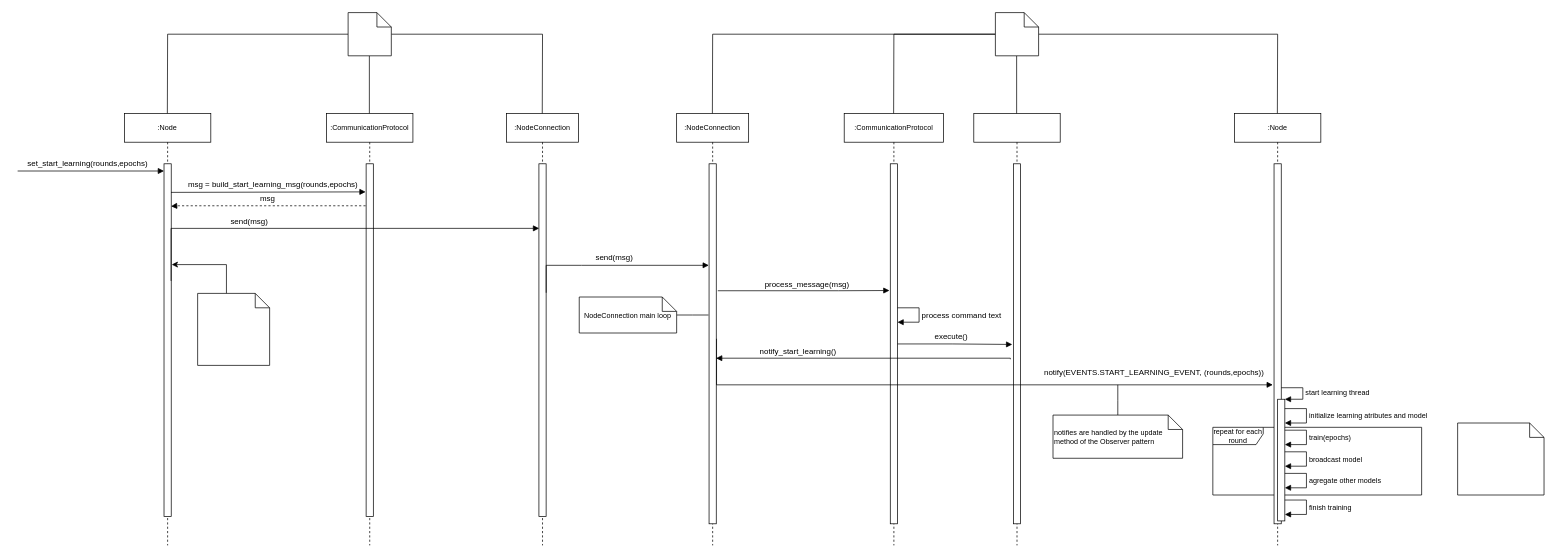
Image size: 1557x558. Some labels were removed from this diagram. Here are the shapes that lost their labels. From the top down, the box of each, then its label:
(347, 12, 391, 56): Node 1
(995, 12, 1039, 56): Node 2
(197, 293, 270, 365): training_loop (same as node2)
(973, 113, 1060, 545): :Start_learning_cmd
(1457, 422, 1544, 495): for more information about broadcasting, see gossip model sequence diagram
